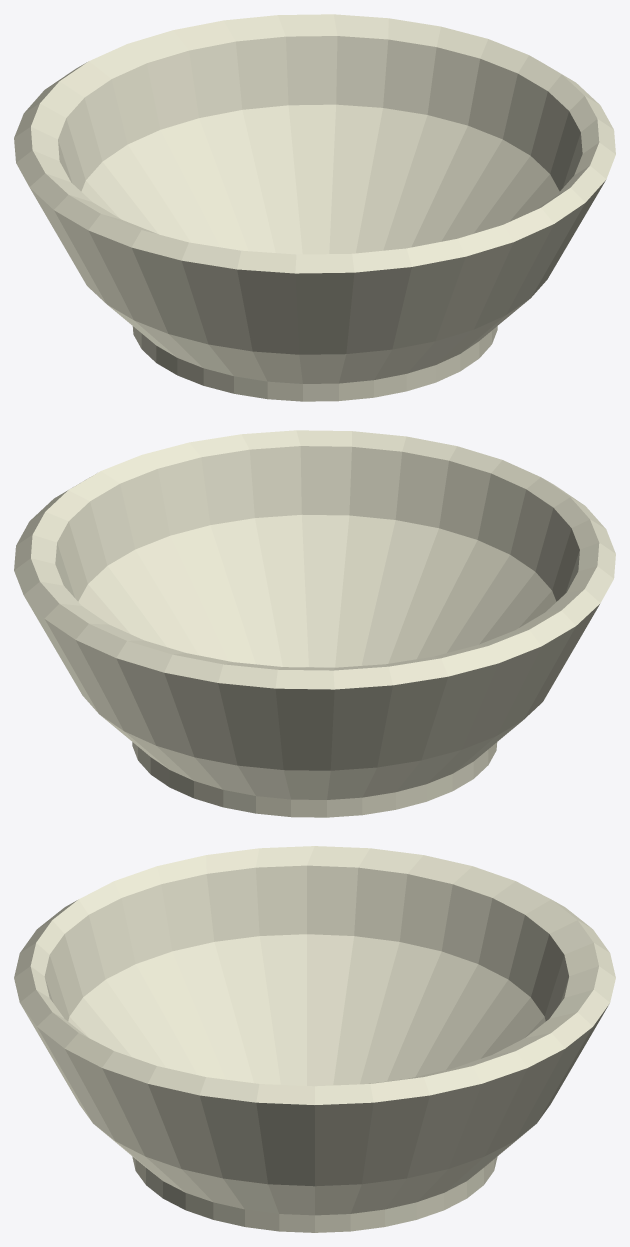
Rendered from Bowl_Simple.glb.
3 renders of one model, top to bottom at view 1: azimuth 30°, elevation 25°; view 2: azimuth 150°, elevation 25°; view 3: azimuth 270°, elevation 25°, orthographic.
Visible parts, largest first — view 1: bowl_simple.001; view 2: bowl_simple.001; view 3: bowl_simple.001.
Part boxes in pixels (x1,y1,x2,y2): bowl_simple.001: (14, 14, 615, 401); bowl_simple.001: (14, 430, 615, 817); bowl_simple.001: (14, 846, 615, 1232).
Size of the model in its own units: 0.4852 by 0.1686 by 0.4852.
